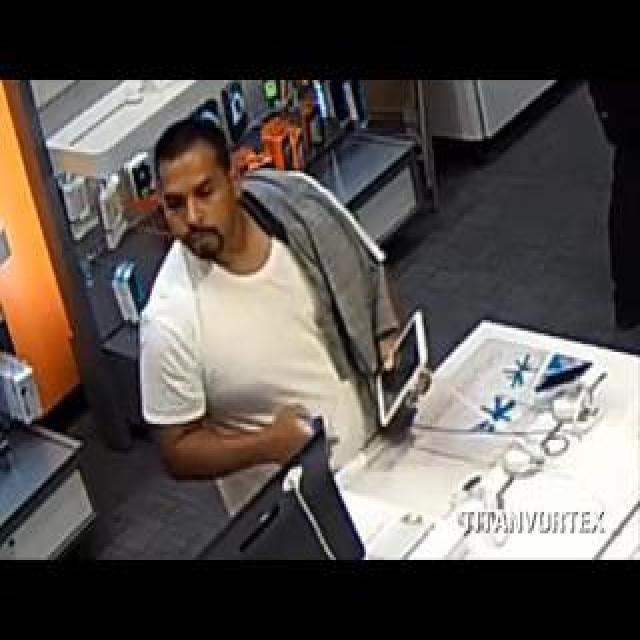Shoplifting: (130, 107, 469, 553)
